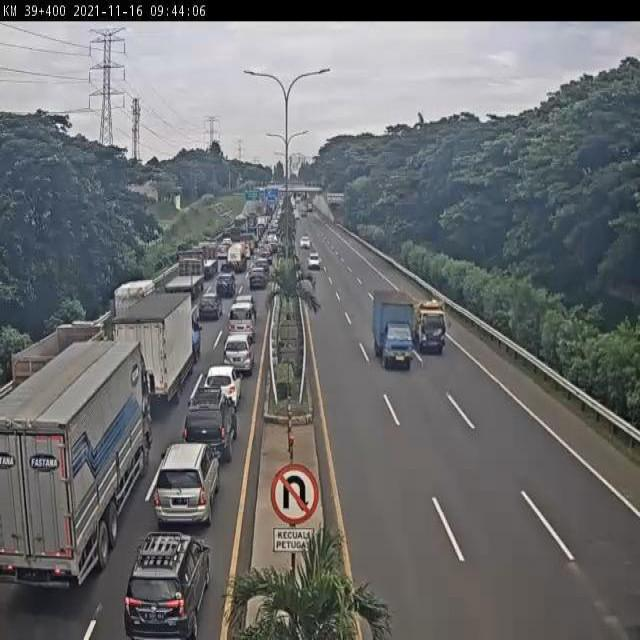car: (124, 526, 215, 640), (145, 433, 235, 524), (177, 381, 242, 460), (195, 356, 246, 419), (216, 327, 263, 385), (223, 303, 266, 340), (195, 291, 224, 325), (238, 264, 273, 292), (213, 267, 240, 300), (305, 252, 328, 275), (298, 232, 316, 252)
small truck: (413, 299, 447, 357)
truck-l-: (0, 333, 159, 599), (166, 253, 207, 300)
truck-m-: (109, 290, 205, 410), (9, 307, 104, 400), (371, 288, 414, 373), (116, 280, 157, 319)
